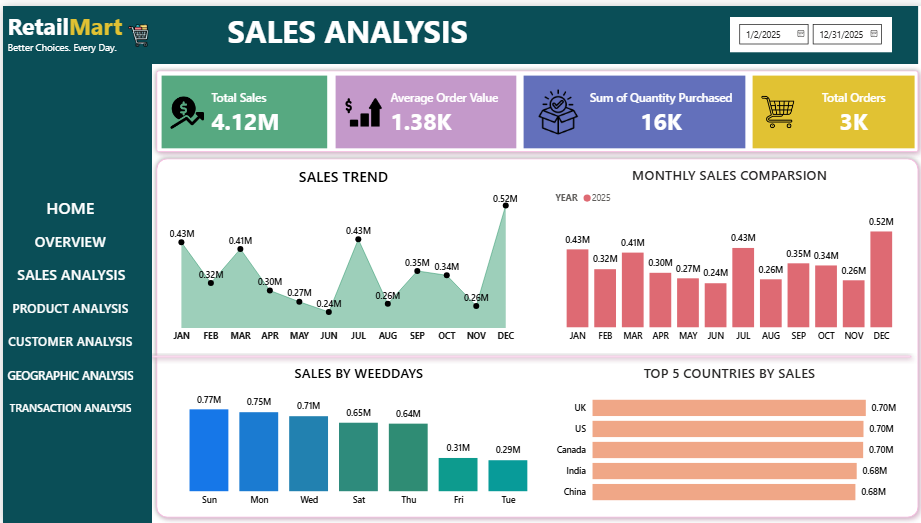

Layout of this report page (visuals, bound fields, positions):
{"tool":"powerbi","page":{"name":"SALES ANALYSIS","canvas":[1280,720],"ordinal":3},"visuals":[{"type":"shape","box":[203.7,202.5,1076.1,516.6],"z":0},{"type":"shape","box":[203.7,81,1076.1,131.3],"z":1000},{"type":"shape","box":[195.1,476.1,1076.1,20.9],"z":2000},{"type":"shape","box":[199,0,1072.7,80.7],"z":3000},{"type":"shape","box":[0,0,207.3,720.7],"z":4000},{"type":"lineChart","title":"SALES TREND","fields":{"Category":["public Sales Data.MONTH_NAME"],"Y":["public Sales Data.Total Sales"]},"box":[227,222.1,493.3,254],"z":5000},{"type":"textbox","box":[1.4,0,250.7,80.3],"z":6000,"group":"g1"},{"type":"cardVisual","fields":{"Data":["public Sales Data.Total Sales"]},"box":[215.7,91.8,240.7,111.3],"z":6000},{"type":"cardVisual","fields":{"Data":["public Sales Data.Average Order Value"]},"box":[456.3,91.8,261.6,111.3],"z":7000},{"type":"slicer","fields":{"Values":["public Sales Data.Date"]},"box":[1009.9,15.5,225.4,49.3],"z":8000},{"type":"cardVisual","fields":{"Data":["public Sales Data.Total Orders"]},"box":[1036.5,91.8,235.1,111.3],"z":9000},{"type":"textbox","box":[307,0,374.6,80.3],"z":10000},{"type":"cardVisual","fields":{"Data":["Sum(public Sales Data.Quantity Purchased)"]},"box":[717.9,91.8,318.6,111.3],"z":11000},{"type":"clusteredColumnChart","title":"SALES BY WEEDDAYS","fields":{"Category":["public Sales Data.Weekday"],"Y":["public Sales Data.Total Sales"]},"box":[226.6,497.5,535.9,206.7],"z":12000},{"type":"clusteredColumnChart","title":"MONTHLY SALES COMPARSION","fields":{"Category":["public Sales Data.MONTH_NAME"],"Series":["public Sales Data.YEAR"],"Y":["public Sales Data.Total Sales"]},"box":[762,222.1,493.3,254],"z":13000},{"type":"clusteredBarChart","title":"TOP 5 COUNTRIES BY SALES","fields":{"Category":["public Sales Data.Country"],"Y":["public Sales Data.Total Sales"]},"box":[762.6,497.5,493.2,206.7],"z":14000},{"type":"actionButton","box":[0,256.3,187.3,46.5],"z":15000},{"type":"actionButton","box":[0,302.8,187.3,46.5],"z":16000},{"type":"actionButton","box":[1.4,349.3,187.3,46.5],"z":17000},{"type":"actionButton","box":[0,395.8,187.3,46.5],"z":18000},{"type":"actionButton","box":[0,442.3,187.3,46.5],"z":19000},{"type":"actionButton","box":[0,488.7,187.3,46.5],"z":20000},{"type":"actionButton","box":[0,535.2,187.3,46.5],"z":21000},{"type":"group","id":"g1","title":"Group 1","box":[1.4,0,250.7,80.3],"z":22000},{"type":"image","box":[166.8,24.8,43.1,31.7],"z":30001,"group":"g1"}]}

Visuals, with their boxes in screenshot pixels (x1, y1, x2, y2), scaled from the page's 1280x720 canvas onto the 921x523 screenshot:
shape: <box>147,147,920,522</box>
shape: <box>147,59,920,154</box>
shape: <box>140,346,915,361</box>
shape: <box>143,0,915,59</box>
shape: <box>0,0,149,522</box>
"SALES TREND" lineChart: <box>163,161,518,346</box>
textbox: <box>1,0,181,58</box>
cardVisual - public Sales Data.Total Sales: <box>155,67,328,148</box>
cardVisual - public Sales Data.Average Order Value: <box>328,67,517,148</box>
slicer - public Sales Data.Date: <box>727,11,889,47</box>
cardVisual - public Sales Data.Total Orders: <box>746,67,915,148</box>
textbox: <box>221,0,490,58</box>
cardVisual - Sum(public Sales Data.Quantity Purchased): <box>517,67,746,148</box>
"SALES BY WEEDDAYS" clusteredColumnChart: <box>163,361,549,512</box>
"MONTHLY SALES COMPARSION" clusteredColumnChart: <box>548,161,903,346</box>
"TOP 5 COUNTRIES BY SALES" clusteredBarChart: <box>549,361,904,512</box>
actionButton: <box>0,186,135,220</box>
actionButton: <box>0,220,135,254</box>
actionButton: <box>1,254,136,288</box>
actionButton: <box>0,288,135,321</box>
actionButton: <box>0,321,135,355</box>
actionButton: <box>0,355,135,389</box>
actionButton: <box>0,389,135,423</box>
"Group 1" group: <box>1,0,181,58</box>
image: <box>120,18,151,41</box>
